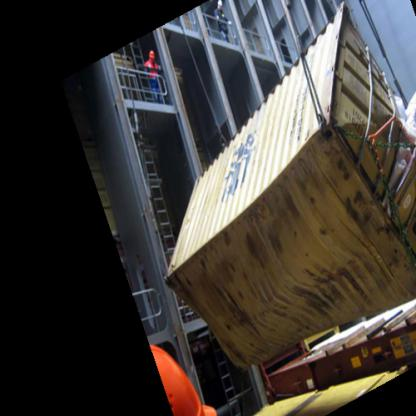Damage: (244, 150, 336, 244), (282, 243, 412, 303), (346, 150, 415, 235), (187, 230, 244, 325)
